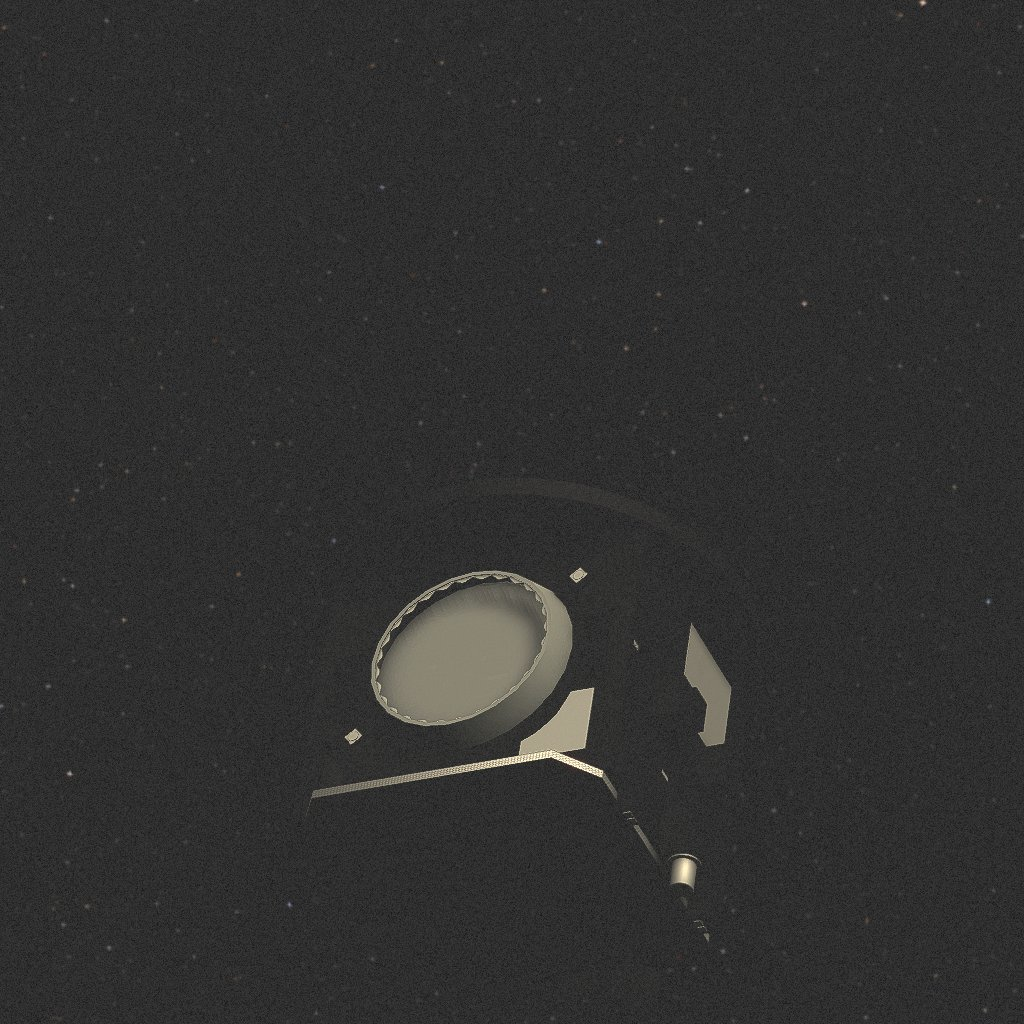proba_3_ocs: (293, 478, 759, 1024)
